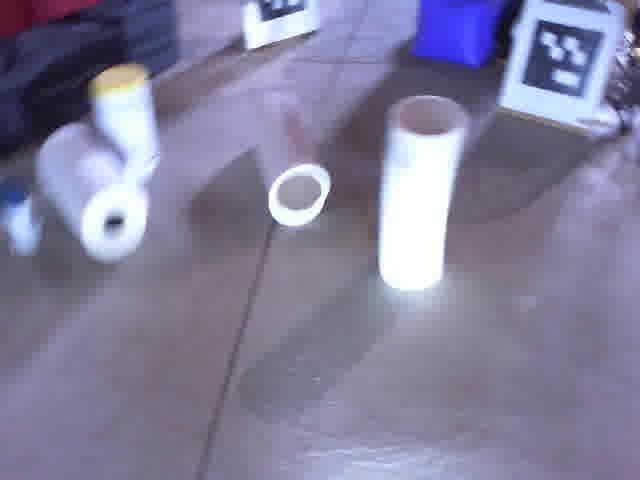coral: (372, 85, 471, 293), (240, 82, 336, 231)
